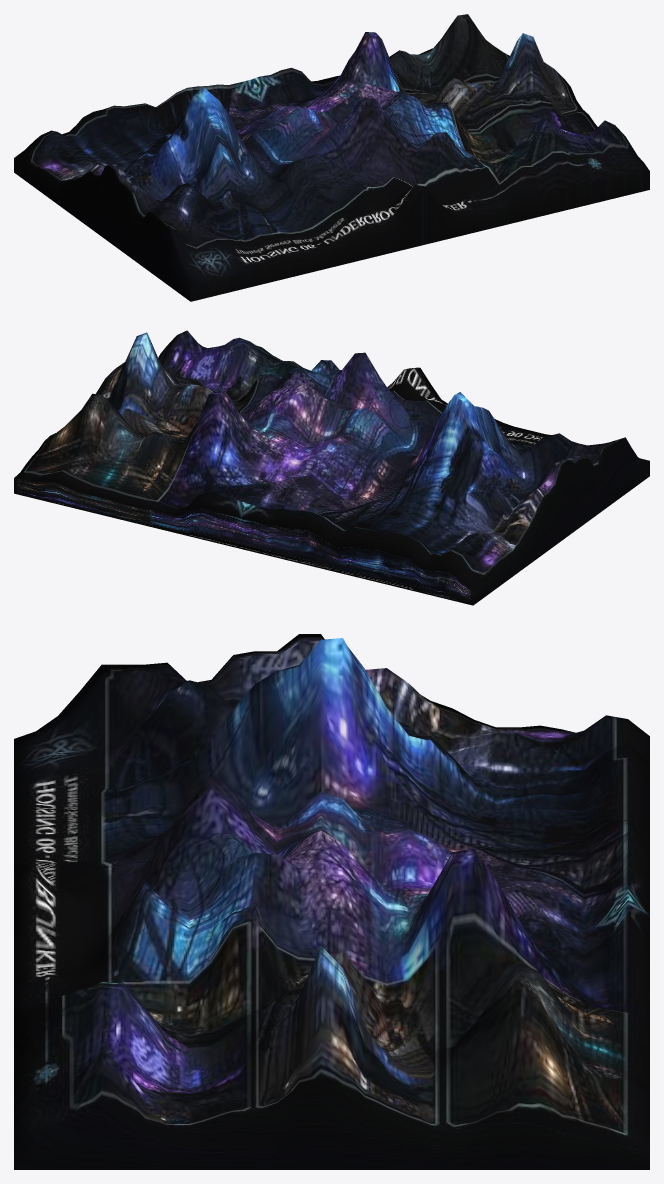
Rendered from HOUSING_06_Underground_Bunker.glb.
The picture shows the model from 3 angles, top to bottom: view 1: azimuth 30°, elevation 25°; view 2: azimuth 150°, elevation 25°; view 3: azimuth 270°, elevation 25°; orthographic projection. The views are drawn at different scales.
Parts seen in each view (by area): view 1: HOUSING_06_Underground_Bunker; view 2: HOUSING_06_Underground_Bunker; view 3: HOUSING_06_Underground_Bunker.
Boxes of the visible parts, x1,y1,x2,y2 form: HOUSING_06_Underground_Bunker: (14,14,649,301); HOUSING_06_Underground_Bunker: (14,330,649,605); HOUSING_06_Underground_Bunker: (14,634,649,1169).
Bounding box in the file's own units: 2 × 0.51 × 1.33.
1 material, 1 textured.
